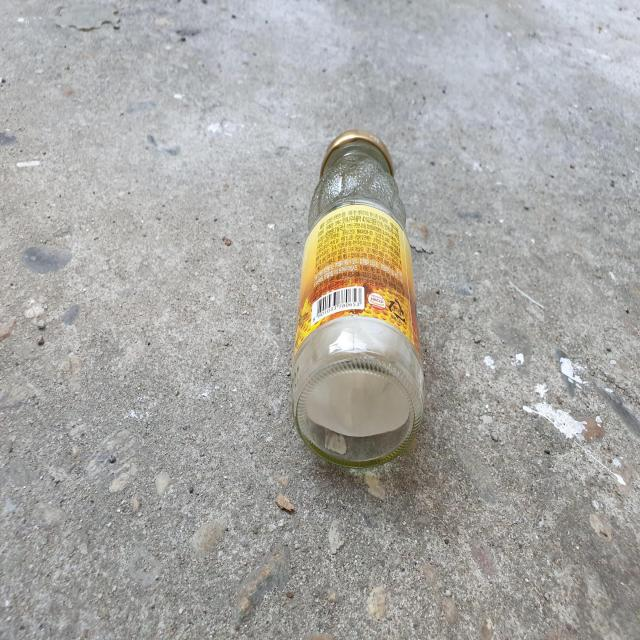glass: (291, 130, 425, 468)
